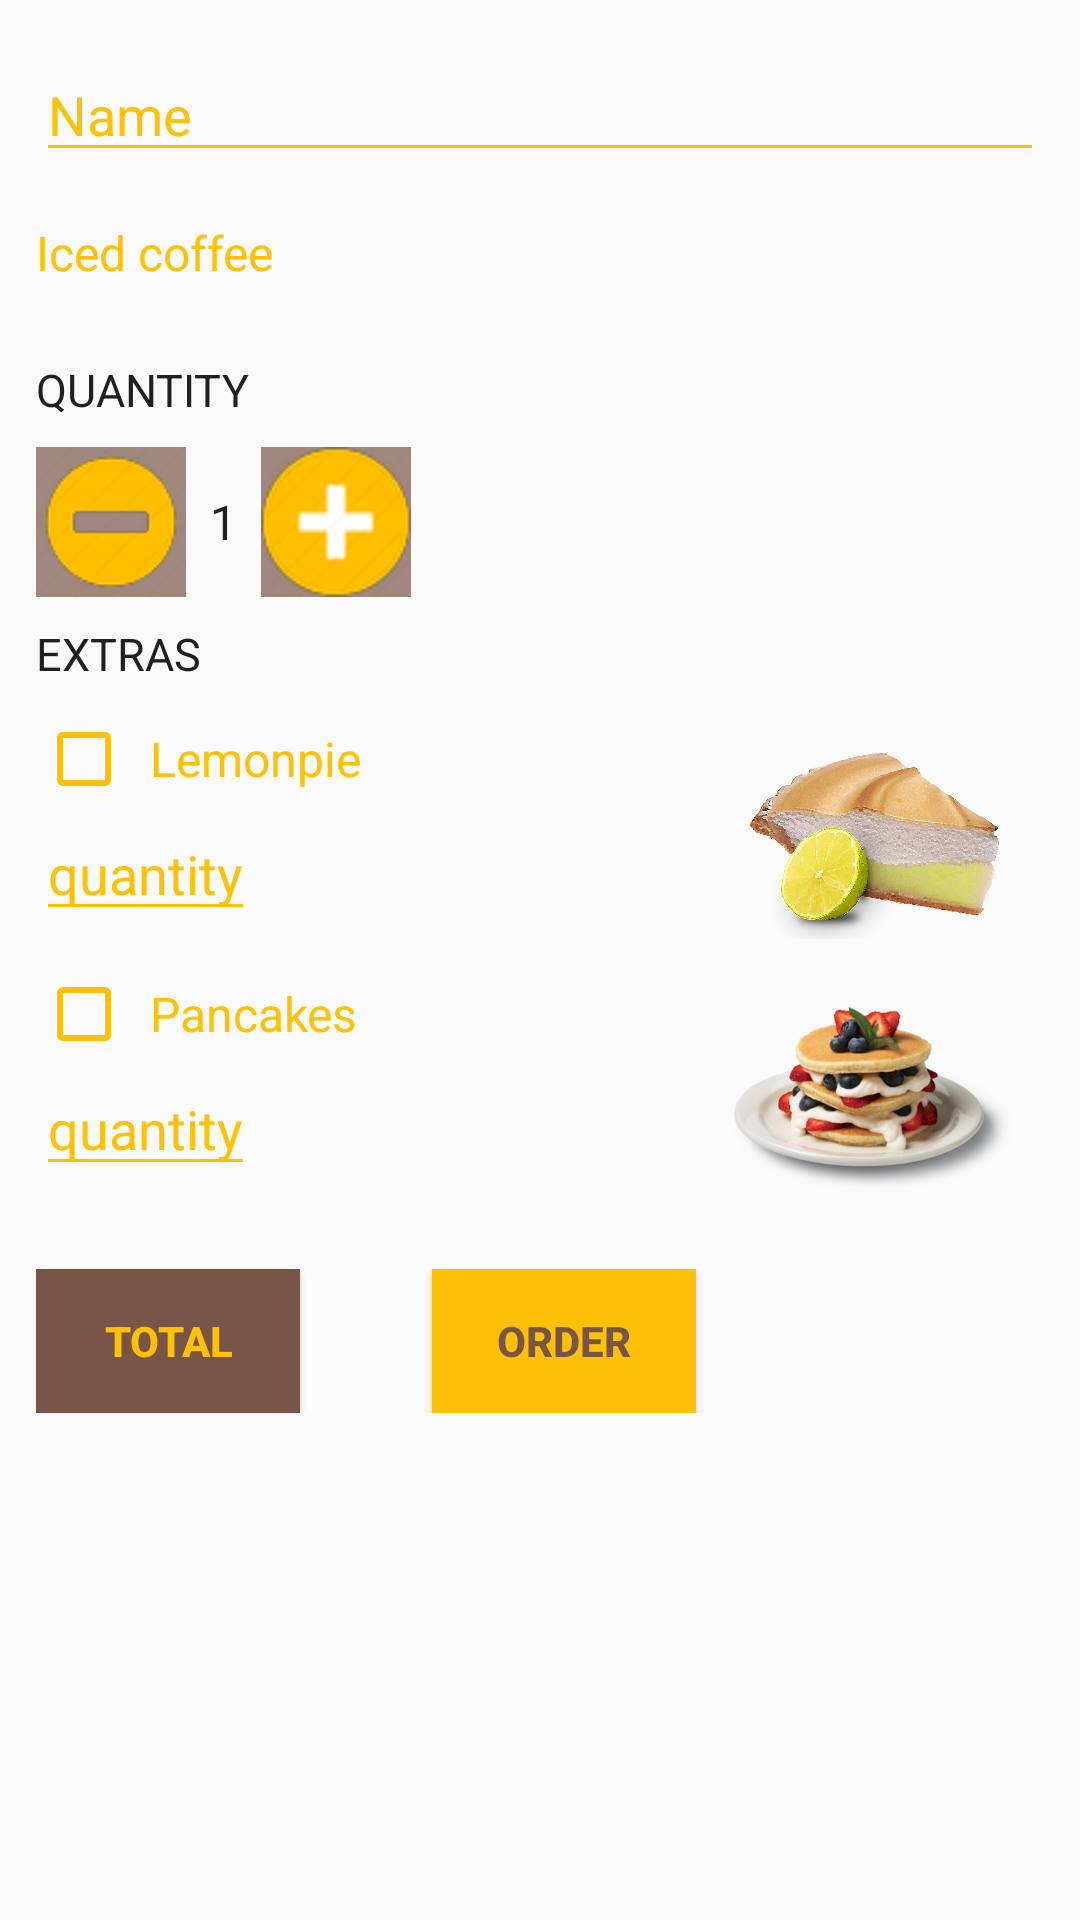

Screen size 1080px×1920px. Icon name, then its box in pixels as (x1, y1, x2, y2):
lemonpie: (749, 753, 999, 932)
minuscircle: (36, 447, 186, 597)
pancake: (735, 1007, 999, 1182)
pluscircle: (261, 447, 411, 597)
